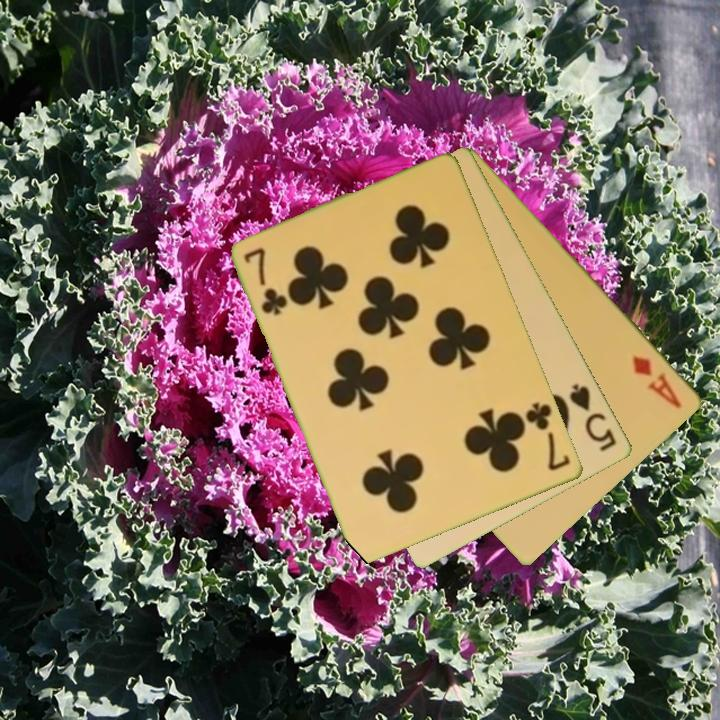5s: (566, 380, 620, 455)
7c: (522, 398, 574, 474), (240, 244, 291, 319)
Ad: (629, 351, 685, 412)
